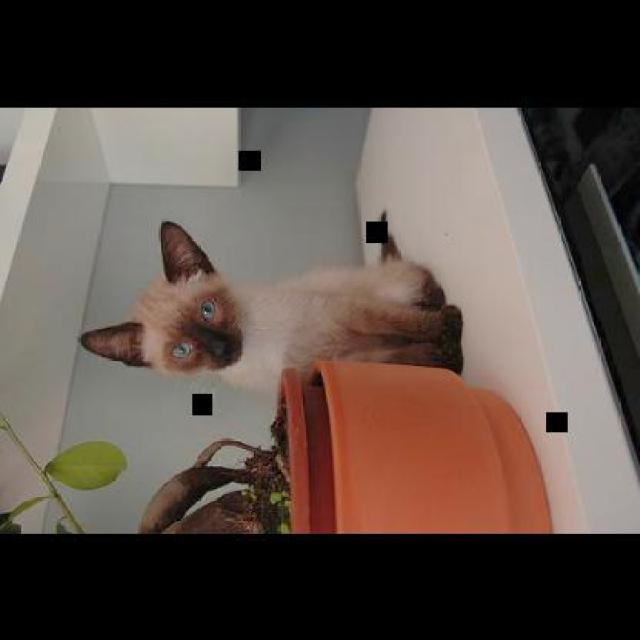unauthorized: (77, 218, 463, 397)
